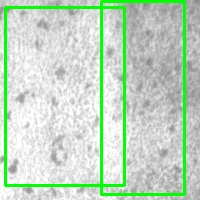pitted_surface: (5, 7, 124, 185), (101, 1, 184, 194)
